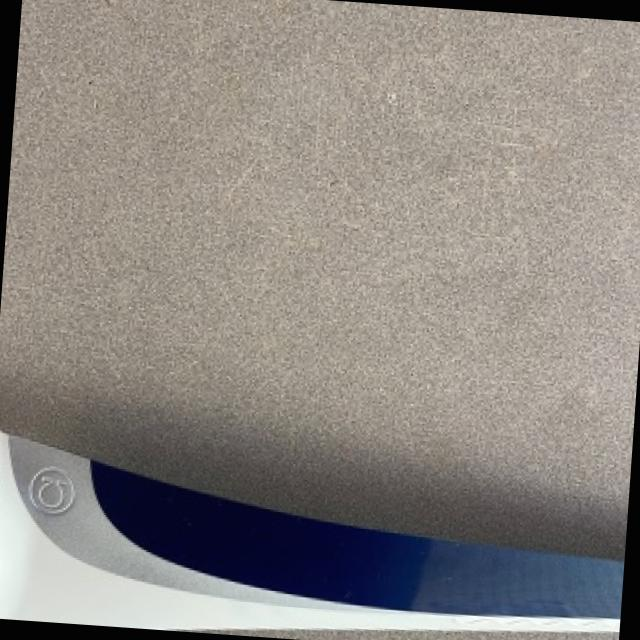healthy: (0, 0, 640, 557), (0, 431, 618, 630)
